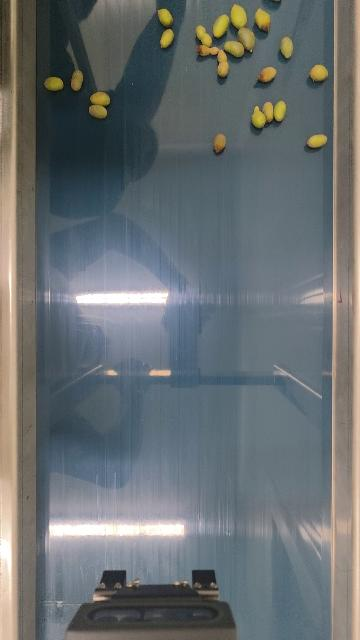Baby Potato: (236, 26, 257, 52), (229, 2, 249, 28), (212, 13, 230, 38), (194, 24, 213, 47), (254, 7, 272, 31), (223, 40, 246, 58), (89, 90, 112, 107), (216, 51, 230, 78), (159, 27, 175, 50), (251, 105, 266, 129), (69, 69, 85, 91), (280, 36, 295, 59), (310, 63, 328, 82), (157, 7, 174, 27), (212, 132, 228, 153), (88, 103, 109, 119), (273, 99, 287, 123), (307, 133, 328, 149), (258, 66, 277, 83), (44, 76, 64, 92), (262, 100, 275, 123), (194, 45, 219, 56)
